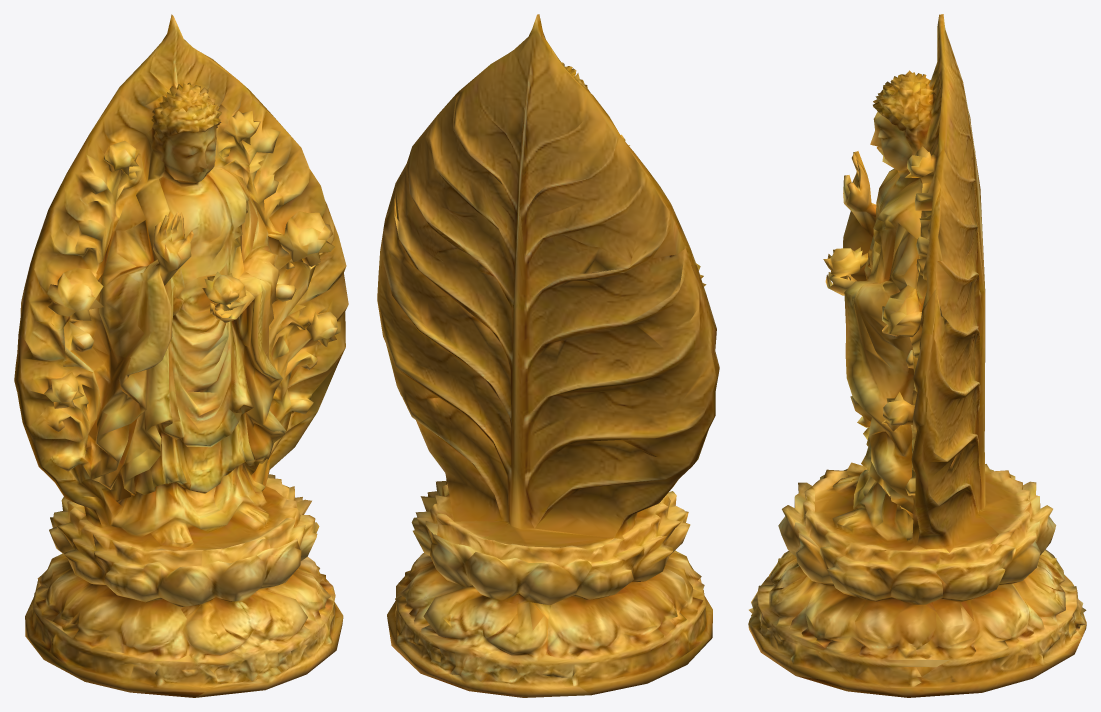
The model's file is far.glb.
3 renders of one model, left to right at view 1: azimuth 30°, elevation 25°; view 2: azimuth 150°, elevation 25°; view 3: azimuth 270°, elevation 25°, orthographic. The views are drawn at different scales.
Parts seen in each view (by area): view 1: four-heavenly-kings-01; view 2: four-heavenly-kings-01; view 3: four-heavenly-kings-01.
Part boxes in pixels (x1,y1,x2,y2): four-heavenly-kings-01: [14, 14, 348, 697]; four-heavenly-kings-01: [377, 14, 719, 697]; four-heavenly-kings-01: [748, 14, 1086, 697].
Bounding box in the file's own units: 0.5704 × 0.9993 × 0.4973.
1 material, 1 textured.
